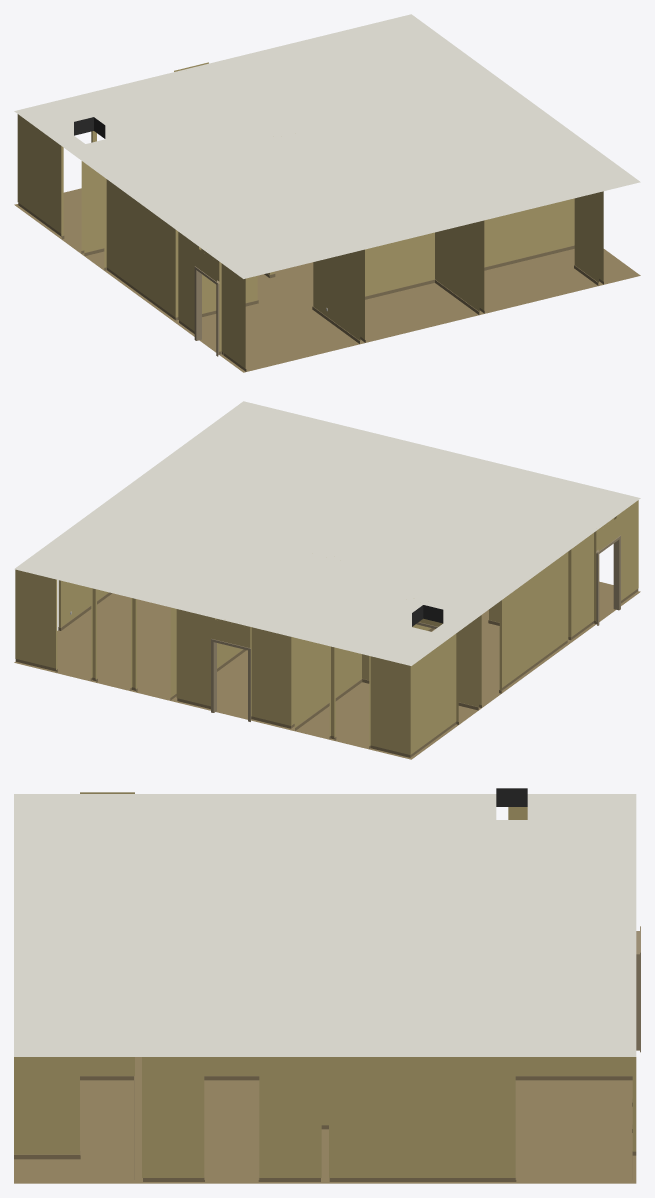
The model's file is chunk_4_4.glb.
The picture shows the model from 3 angles, top to bottom: view 1: azimuth 30°, elevation 25°; view 2: azimuth 150°, elevation 25°; view 3: azimuth 270°, elevation 25°; orthographic projection. The views are drawn at different scales.
Parts seen in each view (by area): view 1: chunk_4_4; view 2: chunk_4_4; view 3: chunk_4_4.
Part boxes in pixels (<box>): chunk_4_4: <box>14,14,640,372</box>; chunk_4_4: <box>14,401,640,759</box>; chunk_4_4: <box>14,788,640,1183</box>.
Bounding box in the file's own units: 12.1 × 3.1 × 12.09.
